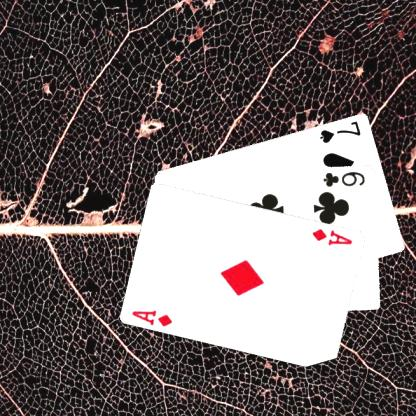6C: (320, 168, 366, 188)
7S: (316, 118, 362, 144)
AD: (310, 226, 354, 247), (130, 307, 173, 328)
